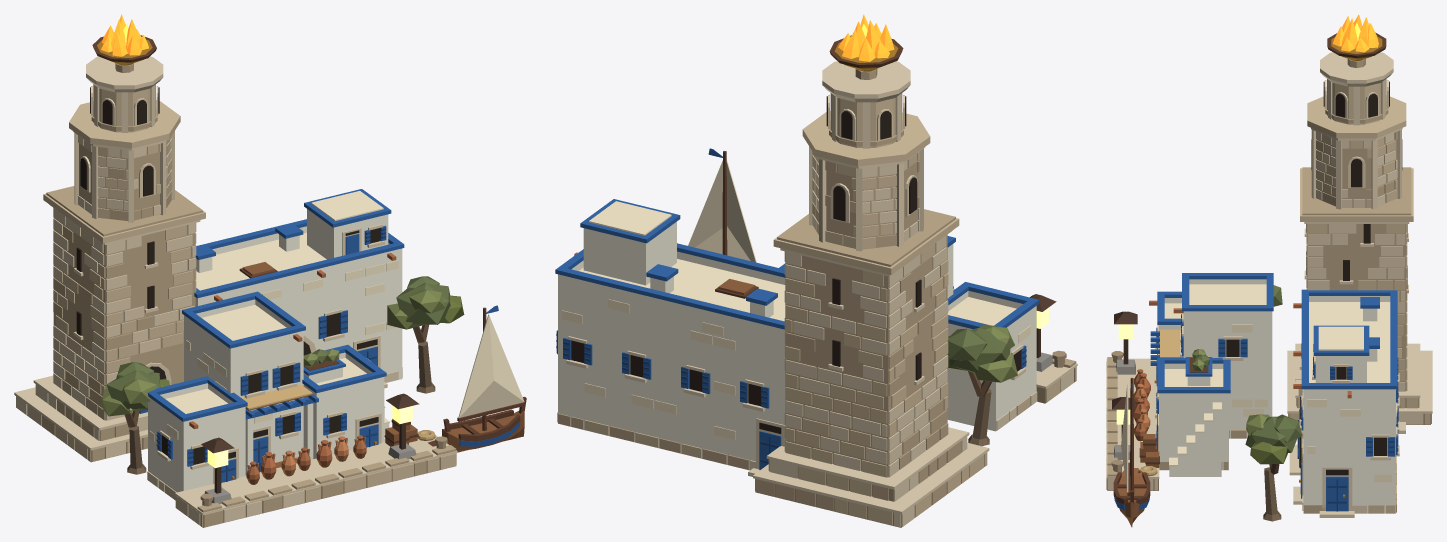
File: lighthouse_port.glb
3 views of the same model, side by side, from view 1: azimuth 30°, elevation 25°; view 2: azimuth 150°, elevation 25°; view 3: azimuth 270°, elevation 25° (orthographic). The views are drawn at different scales.
Visible parts, largest first — view 1: lighthouse_port_LP_Whitewash, lighthouse_port_LP_StoneLight, lighthouse_port_LP_StoneMid, lighthouse_port_LP_Stone, lighthouse_port_LP_MedBlue, lighthouse_port_LP_WhitewashShade, lighthouse_port_LP_Ivory, lighthouse_port_LP_Dark, lighthouse_port_LP_Olive, lighthouse_port_LP_OliveLight, lighthouse_port_LP_Wood, lighthouse_port_LP_WoodLight (+12 smaller); view 2: lighthouse_port_LP_Whitewash, lighthouse_port_LP_StoneLight, lighthouse_port_LP_StoneMid, lighthouse_port_LP_Stone, lighthouse_port_LP_MedBlue, lighthouse_port_LP_WhitewashShade, lighthouse_port_LP_Ivory, lighthouse_port_LP_Dark, lighthouse_port_LP_Olive, lighthouse_port_LP_FireLamp, lighthouse_port_LP_DeepArch, lighthouse_port_LP_Wood (+4 smaller); view 3: lighthouse_port_LP_Whitewash, lighthouse_port_LP_StoneLight, lighthouse_port_LP_MedBlue, lighthouse_port_LP_StoneMid, lighthouse_port_LP_WhitewashShade, lighthouse_port_LP_Stone, lighthouse_port_LP_Wood, lighthouse_port_LP_Olive, lighthouse_port_LP_Dark, lighthouse_port_LP_WoodLight, lighthouse_port_LP_FireLamp, lighthouse_port_LP_DeepArch (+12 smaller).
Part boxes in pixels (x1,y1,x2,y2): lighthouse_port_LP_Whitewash: [148, 209, 402, 492]; lighthouse_port_LP_StoneLight: [14, 56, 457, 525]; lighthouse_port_LP_StoneMid: [42, 63, 456, 527]; lighthouse_port_LP_Stone: [27, 84, 455, 516]; lighthouse_port_LP_MedBlue: [139, 189, 520, 482]; lighthouse_port_LP_WhitewashShade: [149, 191, 398, 441]; lighthouse_port_LP_Ivory: [458, 314, 524, 417]; lighthouse_port_LP_Dark: [76, 228, 380, 464]; lighthouse_port_LP_Olive: [106, 276, 450, 411]; lighthouse_port_LP_OliveLight: [101, 289, 445, 416]; lighthouse_port_LP_Wood: [92, 35, 526, 446]; lighthouse_port_LP_WoodLight: [242, 262, 524, 468]; lighthouse_port_LP_Whitewash: [558, 221, 1036, 470]; lighthouse_port_LP_StoneLight: [557, 61, 1077, 527]; lighthouse_port_LP_StoneMid: [558, 69, 1076, 510]; lighthouse_port_LP_Stone: [557, 93, 1060, 525]; lighthouse_port_LP_MedBlue: [555, 148, 1039, 469]; lighthouse_port_LP_WhitewashShade: [562, 201, 1030, 440]; lighthouse_port_LP_Ivory: [688, 159, 756, 262]; lighthouse_port_LP_Dark: [571, 278, 1020, 433]; lighthouse_port_LP_Olive: [947, 328, 1010, 372]; lighthouse_port_LP_FireLamp: [838, 14, 894, 61]; lighthouse_port_LP_DeepArch: [826, 96, 917, 221]; lighthouse_port_LP_Wood: [715, 35, 903, 298]; lighthouse_port_LP_Whitewash: [1159, 279, 1395, 513]; lighthouse_port_LP_StoneLight: [1106, 52, 1432, 517]; lighthouse_port_LP_MedBlue: [1114, 273, 1397, 511]; lighthouse_port_LP_StoneMid: [1106, 58, 1431, 513]; lighthouse_port_LP_WhitewashShade: [1164, 284, 1396, 482]; lighthouse_port_LP_Stone: [1106, 79, 1430, 513]; lighthouse_port_LP_Wood: [1113, 32, 1386, 504]; lighthouse_port_LP_Olive: [1194, 285, 1302, 452]; lighthouse_port_LP_Dark: [1157, 224, 1407, 475]; lighthouse_port_LP_WoodLight: [1117, 434, 1159, 527]; lighthouse_port_LP_FireLamp: [1332, 14, 1378, 52]; lighthouse_port_LP_DeepArch: [1300, 81, 1402, 468].
Bounding box in the file's own units: 3.9 × 4.12 × 3.16.
